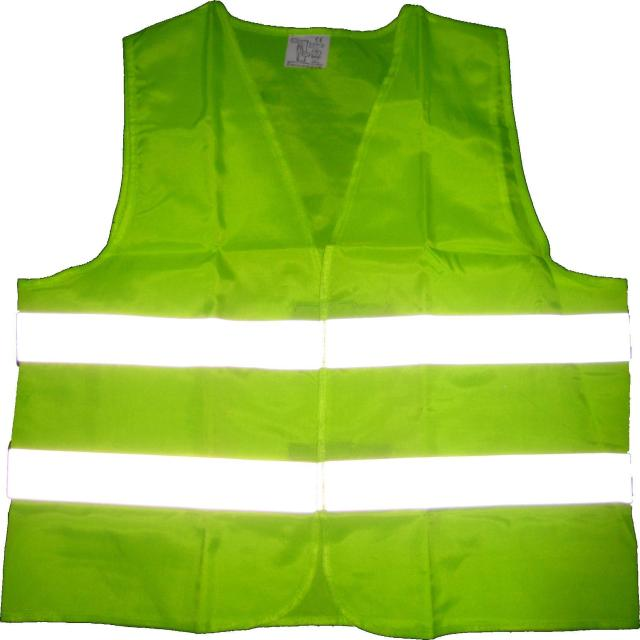Vest: (0, 1, 639, 637)
